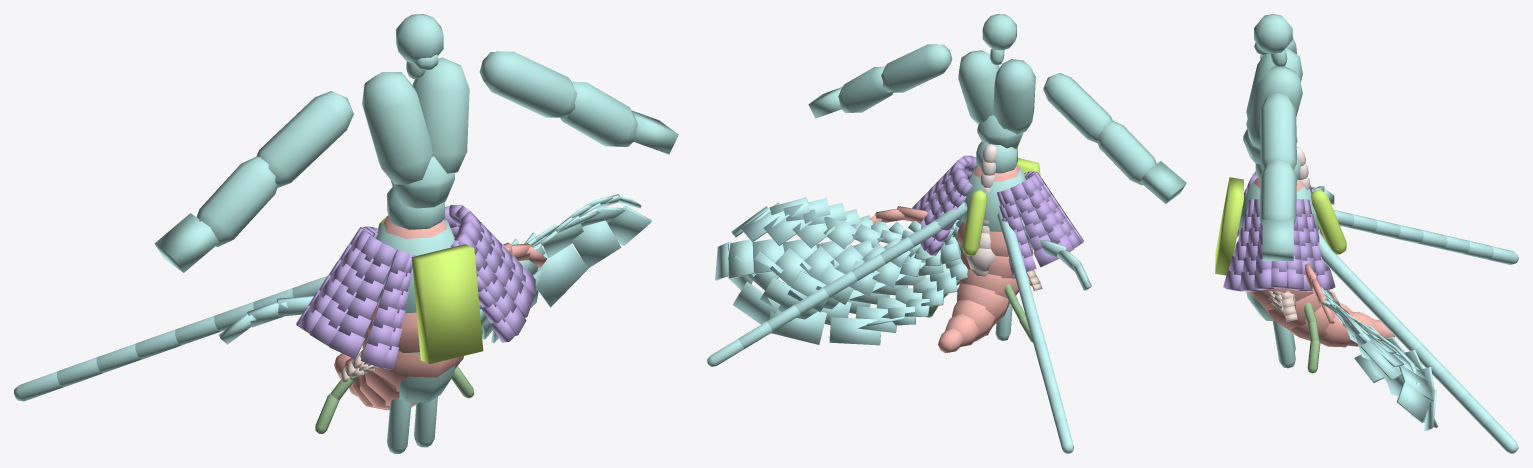
Rendered from HoF_RigidBodyWorld.fbx.
The picture shows the model from 3 angles, left to right: view 1: azimuth 30°, elevation 25°; view 2: azimuth 150°, elevation 25°; view 3: azimuth 270°, elevation 25°; orthographic projection. The views are drawn at different scales.
Parts seen in each view (by area): view 1: 00D_Bone_StuntMan_QunJia_F_01, 001_上半身2_1.001, 003_右腕.001, 002_上半身2_2.001, 006_左腕.001, 004_右ひじ.001, 007_左ひじ.001, 005_右手.001, 00A_頭_1.001, 04I_披风_10_3, 000_上半身.001, 026_M-下半身 (+16 smaller); view 2: 001_上半身2_1.001, 003_右腕.001, 006_左腕.001, 002_上半身2_2.001, 004_右ひじ.001, 007_左ひじ.001, 026_M-下半身, 04G_披风_10_1, 005_右手.001, 00E_Bone_StuntMan_QunJia_B_01, 04H_披风_10_2, 00A_頭_1.001 (+30 smaller); view 3: 006_左腕.001, 007_左ひじ.001, 002_上半身2_2.001, 00D_Bone_StuntMan_QunJia_F_01, 008_左手.001, 00A_頭_1.001, 00E_Bone_StuntMan_QunJia_B_01, 001_上半身2_1.001, 04K_披风_10_5, 00G_左ひざ, 00J_スカート_4_1, 00L_スカート_6_1 (+27 smaller).
Boxes of the visible parts, bbox=[...] form: 00D_Bone_StuntMan_QunJia_F_01: bbox=[411, 244, 483, 363]; 001_上半身2_1.001: bbox=[362, 72, 432, 184]; 003_右腕.001: bbox=[256, 91, 353, 187]; 002_上半身2_2.001: bbox=[412, 57, 469, 173]; 006_左腕.001: bbox=[479, 51, 577, 117]; 004_右ひじ.001: bbox=[196, 156, 277, 246]; 007_左ひじ.001: bbox=[560, 81, 637, 146]; 005_右手.001: bbox=[154, 213, 219, 272]; 00A_頭_1.001: bbox=[396, 14, 443, 63]; 04I_披风_10_3: bbox=[536, 244, 588, 307]; 000_上半身.001: bbox=[390, 156, 454, 208]; 026_M-下半身: bbox=[376, 219, 454, 313]; 001_上半身2_1.001: bbox=[993, 59, 1035, 134]; 003_右腕.001: bbox=[1043, 73, 1112, 143]; 006_左腕.001: bbox=[881, 44, 952, 92]; 002_上半身2_2.001: bbox=[958, 50, 999, 124]; 004_右ひじ.001: bbox=[1097, 120, 1156, 185]; 007_左ひじ.001: bbox=[838, 66, 893, 112]; 026_M-下半身: bbox=[961, 166, 1025, 231]; 04G_披风_10_1: bbox=[829, 317, 880, 345]; 005_右手.001: bbox=[1140, 161, 1186, 203]; 00E_Bone_StuntMan_QunJia_B_01: bbox=[962, 190, 987, 256]; 04H_披风_10_2: bbox=[769, 310, 826, 344]; 00A_頭_1.001: bbox=[982, 14, 1016, 50]; 006_左腕.001: bbox=[1260, 93, 1296, 169]; 007_左ひじ.001: bbox=[1259, 159, 1296, 225]; 002_上半身2_2.001: bbox=[1246, 66, 1302, 148]; 00D_Bone_StuntMan_QunJia_F_01: bbox=[1215, 177, 1243, 275]; 008_左手.001: bbox=[1262, 219, 1293, 260]; 00A_頭_1.001: bbox=[1254, 14, 1292, 53]; 00E_Bone_StuntMan_QunJia_B_01: bbox=[1311, 189, 1346, 254]; 001_上半身2_1.001: bbox=[1246, 48, 1302, 118]; 04K_披风_10_5: bbox=[1397, 381, 1430, 422]; 00G_左ひざ: bbox=[1272, 321, 1295, 368]; 00J_スカート_4_1: bbox=[1268, 290, 1328, 333]; 00L_スカート_6_1: bbox=[1319, 302, 1352, 347].
Size of the model in its own units: 338 by 200 by 252.
